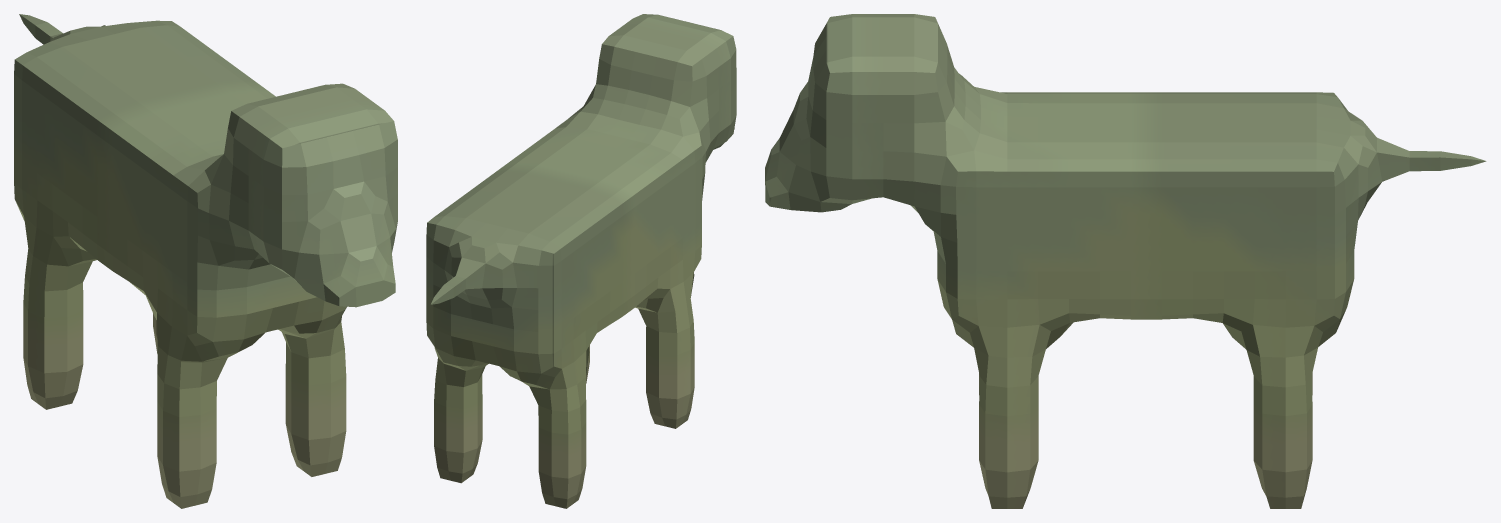
Rendered from haetae.glb.
The picture shows the model from 3 angles, left to right: view 1: azimuth 30°, elevation 25°; view 2: azimuth 150°, elevation 25°; view 3: azimuth 270°, elevation 25°; orthographic projection. The views are drawn at different scales.
Parts seen in each view (by area): view 1: geometry_0; view 2: geometry_0; view 3: geometry_0.
Part boxes in pixels (x1,y1,x2,y2): geometry_0: (14, 14, 397, 508); geometry_0: (426, 14, 736, 508); geometry_0: (765, 14, 1486, 508).
Bounding box in the file's own units: 0.4437 × 1 × 1.51.
1 material, 1 textured.
